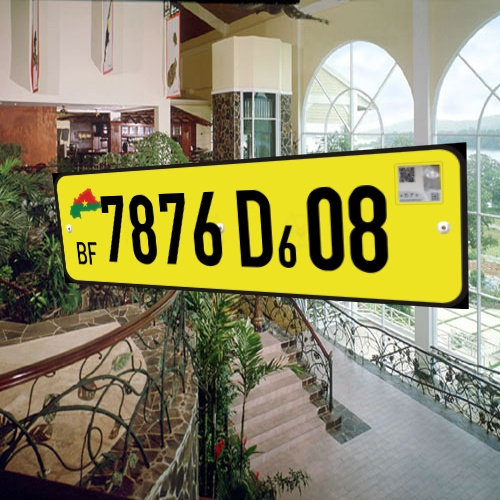plate: (36, 128, 480, 328)
